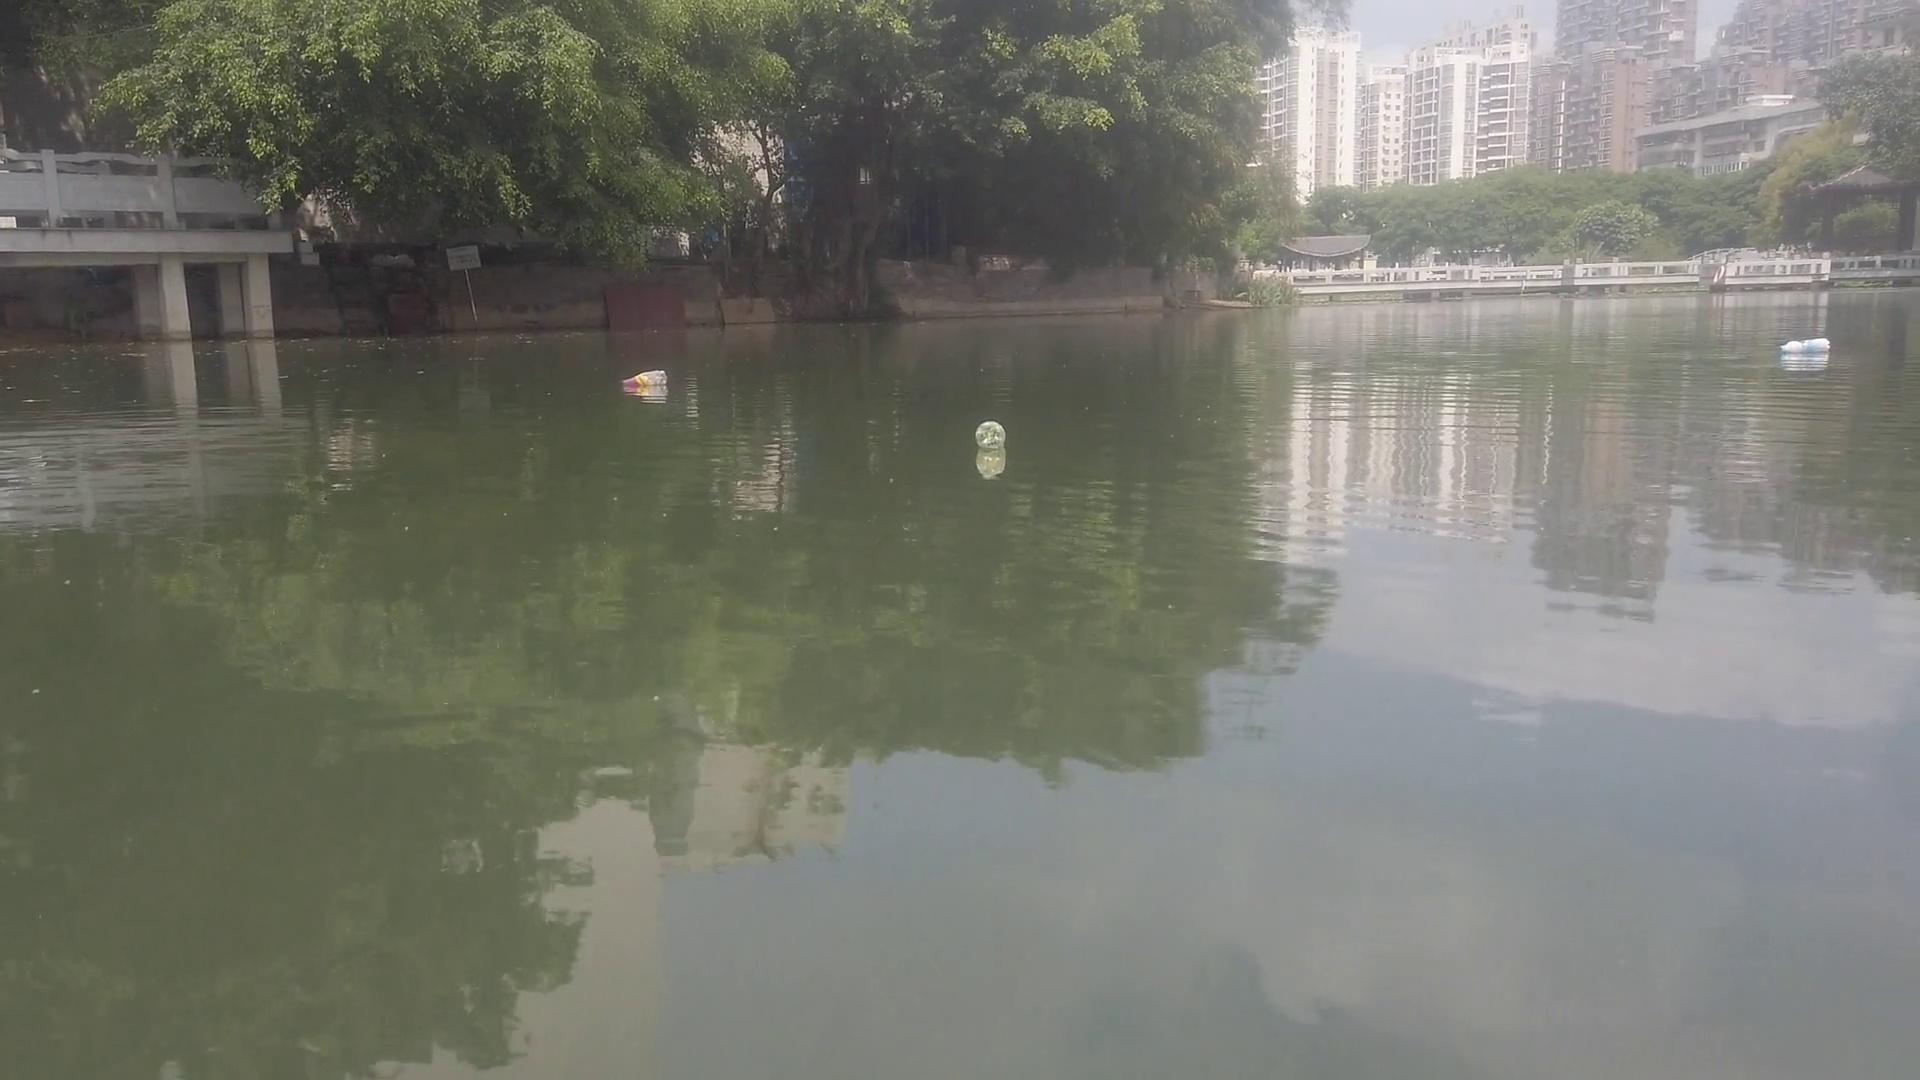bottle: (1774, 332, 1832, 356), (618, 367, 670, 389), (972, 417, 1007, 448)
